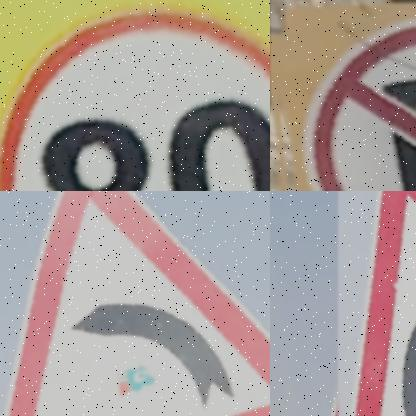Left bend: (3, 191, 270, 416)
No Parking: (270, 0, 416, 191)
Right bend: (315, 191, 416, 416), (352, 191, 416, 416)
Speed Limit -80 kmph-: (0, 0, 270, 191)
